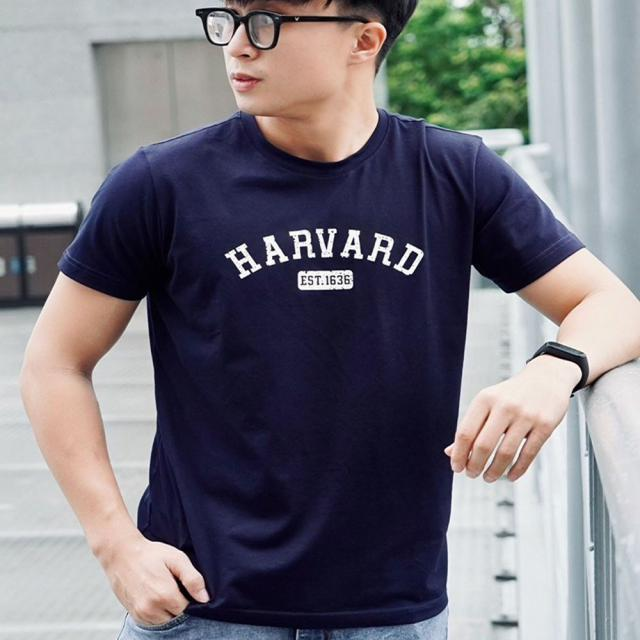Shirt: (54, 103, 591, 623)
